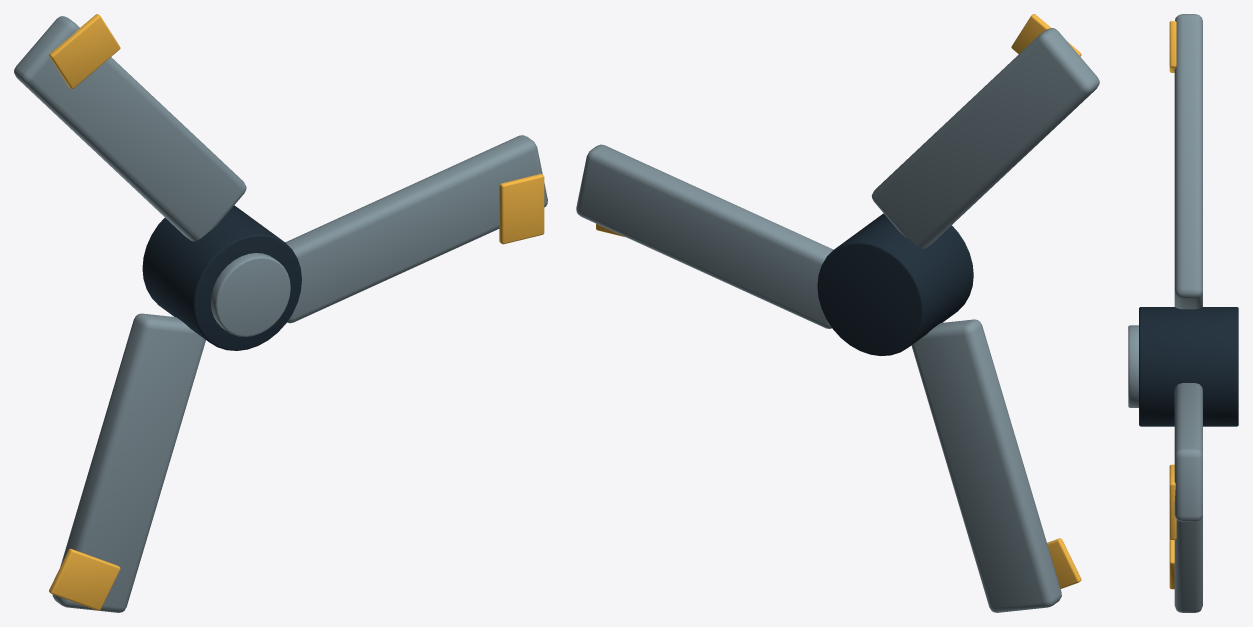
File: turbine_rotor.glb
The picture shows the model from 3 angles, left to right: view 1: azimuth 30°, elevation 25°; view 2: azimuth 150°, elevation 25°; view 3: azimuth 270°, elevation 25°; orthographic projection. The views are drawn at different scales.
Visible parts, largest first — view 1: Drive face, Drive hub, Blade tip marker; view 2: Drive face, Drive hub, Blade tip marker; view 3: Drive face, Drive hub, Blade tip marker.
Boxes of the visible parts, box(x1,y1,x2,y2) form: Drive face: box(14, 16, 547, 612); Drive hub: box(142, 205, 301, 350); Blade tip marker: box(49, 14, 544, 610); Drive face: box(576, 28, 1099, 612); Drive hub: box(817, 213, 973, 355); Blade tip marker: box(596, 14, 1081, 588); Drive face: box(1128, 14, 1202, 612); Drive hub: box(1139, 307, 1238, 426); Blade tip marker: box(1169, 21, 1176, 589).
Bounding box in the file's own units: 4.05 × 4.48 × 0.775.
